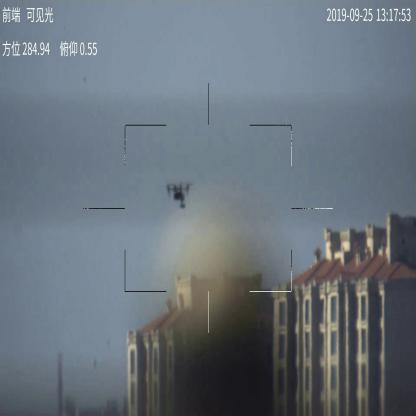uav: (162, 182, 190, 209)
